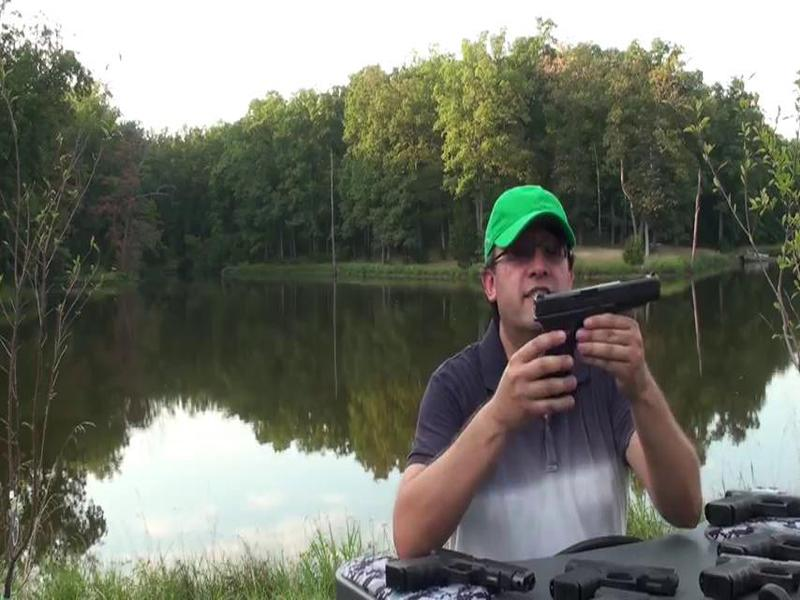Pistola: (517, 254, 687, 390)
